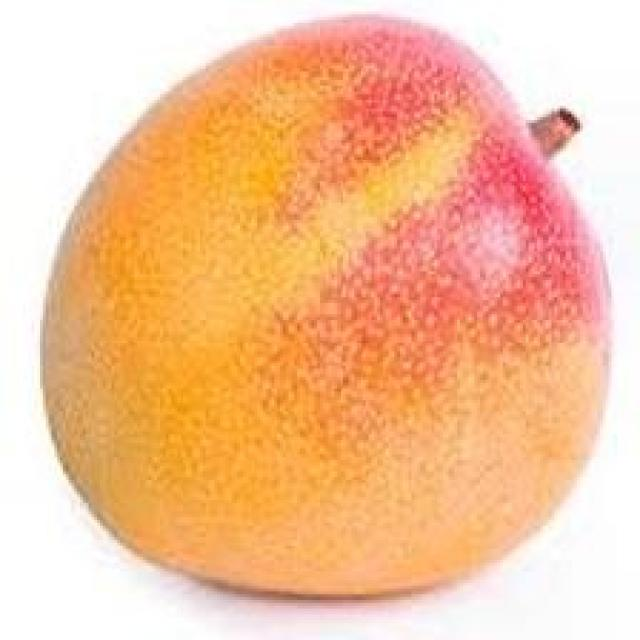Good_Mango: (37, 14, 611, 603)
